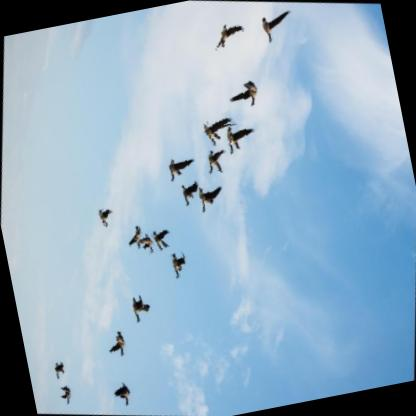bird: (251, 2, 298, 51), (206, 14, 253, 62), (196, 111, 243, 156), (219, 120, 261, 163), (222, 74, 263, 116), (191, 178, 227, 218), (162, 152, 198, 188), (197, 143, 231, 180), (161, 245, 191, 283), (124, 290, 154, 326), (175, 176, 204, 212), (103, 326, 131, 361), (146, 224, 175, 255), (107, 378, 135, 410), (120, 222, 147, 252), (132, 229, 159, 259), (93, 204, 118, 232), (48, 358, 68, 382), (55, 382, 75, 406)
